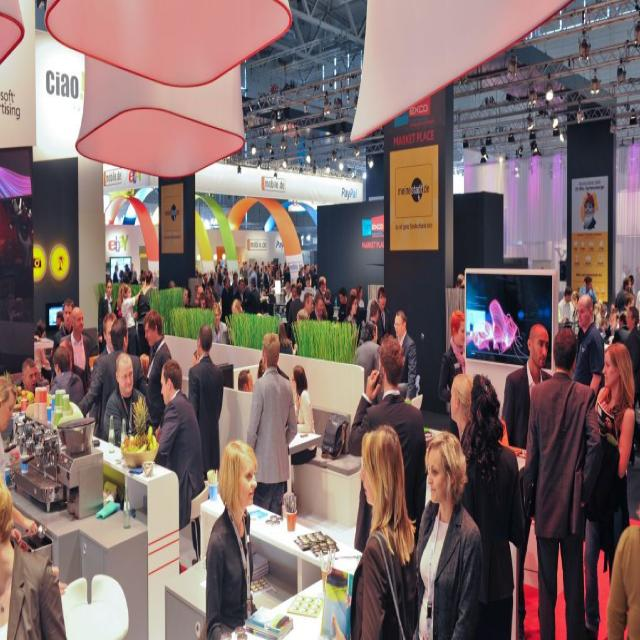body: (521, 326, 602, 639), (318, 417, 425, 639), (168, 254, 369, 355), (346, 328, 429, 556), (458, 372, 528, 640), (502, 320, 554, 636), (583, 340, 635, 640), (411, 428, 483, 640), (0, 472, 68, 640), (204, 437, 260, 640), (244, 330, 300, 518), (78, 314, 154, 441), (152, 356, 206, 532), (101, 348, 162, 458), (0, 375, 38, 538), (186, 322, 224, 482), (604, 521, 639, 640), (142, 307, 172, 444), (437, 308, 467, 440), (88, 310, 118, 438), (570, 293, 606, 398), (289, 364, 318, 467), (59, 305, 91, 396), (392, 308, 422, 402), (49, 343, 84, 407), (354, 318, 382, 395), (448, 372, 476, 445), (119, 280, 142, 358), (59, 335, 88, 396), (622, 306, 639, 410), (31, 318, 53, 389), (97, 276, 115, 357), (592, 297, 620, 346), (51, 296, 75, 353), (255, 357, 292, 390), (112, 259, 156, 286), (16, 357, 43, 398), (374, 286, 392, 347), (580, 186, 600, 239), (578, 275, 598, 322), (557, 285, 575, 334), (610, 312, 632, 352), (47, 307, 63, 362), (614, 274, 636, 313), (627, 268, 640, 329), (137, 268, 154, 307), (570, 290, 581, 340), (237, 368, 254, 392), (116, 280, 125, 318), (453, 267, 468, 288), (368, 299, 380, 325), (138, 351, 150, 377), (575, 275, 586, 294), (192, 346, 200, 367)
